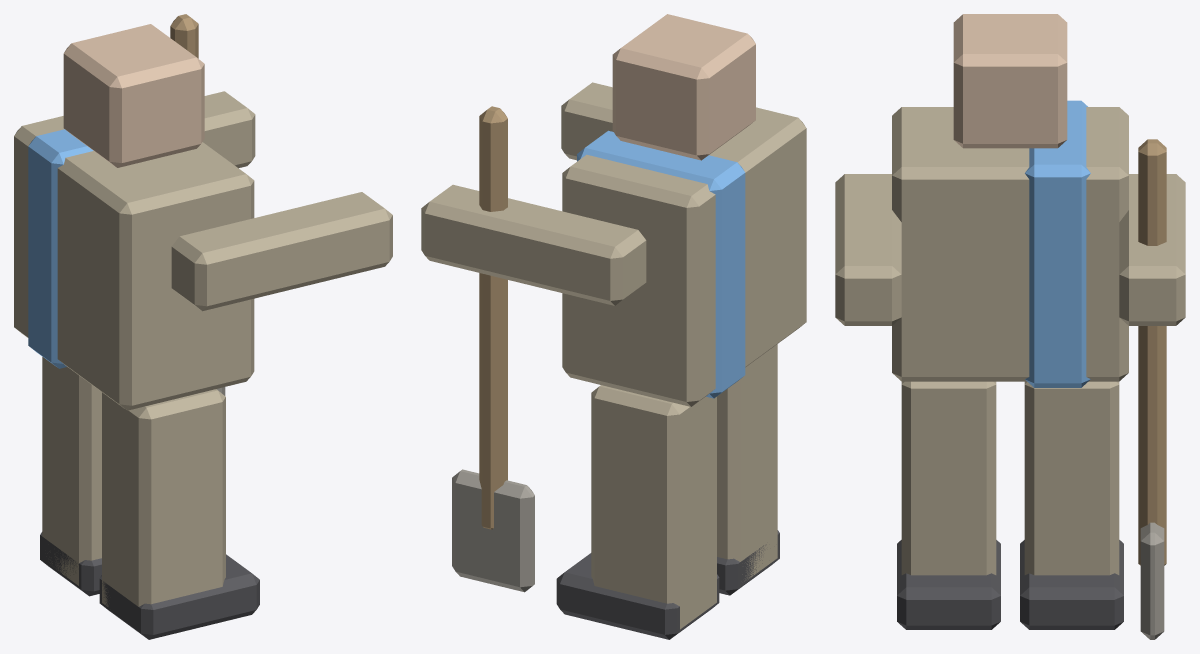
Rendered from worker.glb.
3 renders of one model, left to right at view 1: azimuth 30°, elevation 25°; view 2: azimuth 150°, elevation 25°; view 3: azimuth 270°, elevation 25°, orthographic. The views are drawn at different scales.
Visible parts, largest first — view 1: worker; view 2: worker; view 3: worker.
Part boxes in pixels (<box>): worker: <box>14,14,392,639</box>; worker: <box>421,14,806,639</box>; worker: <box>835,14,1185,639</box>.
Bounding box in the file's own units: 0.63 × 1.31 × 0.74.
